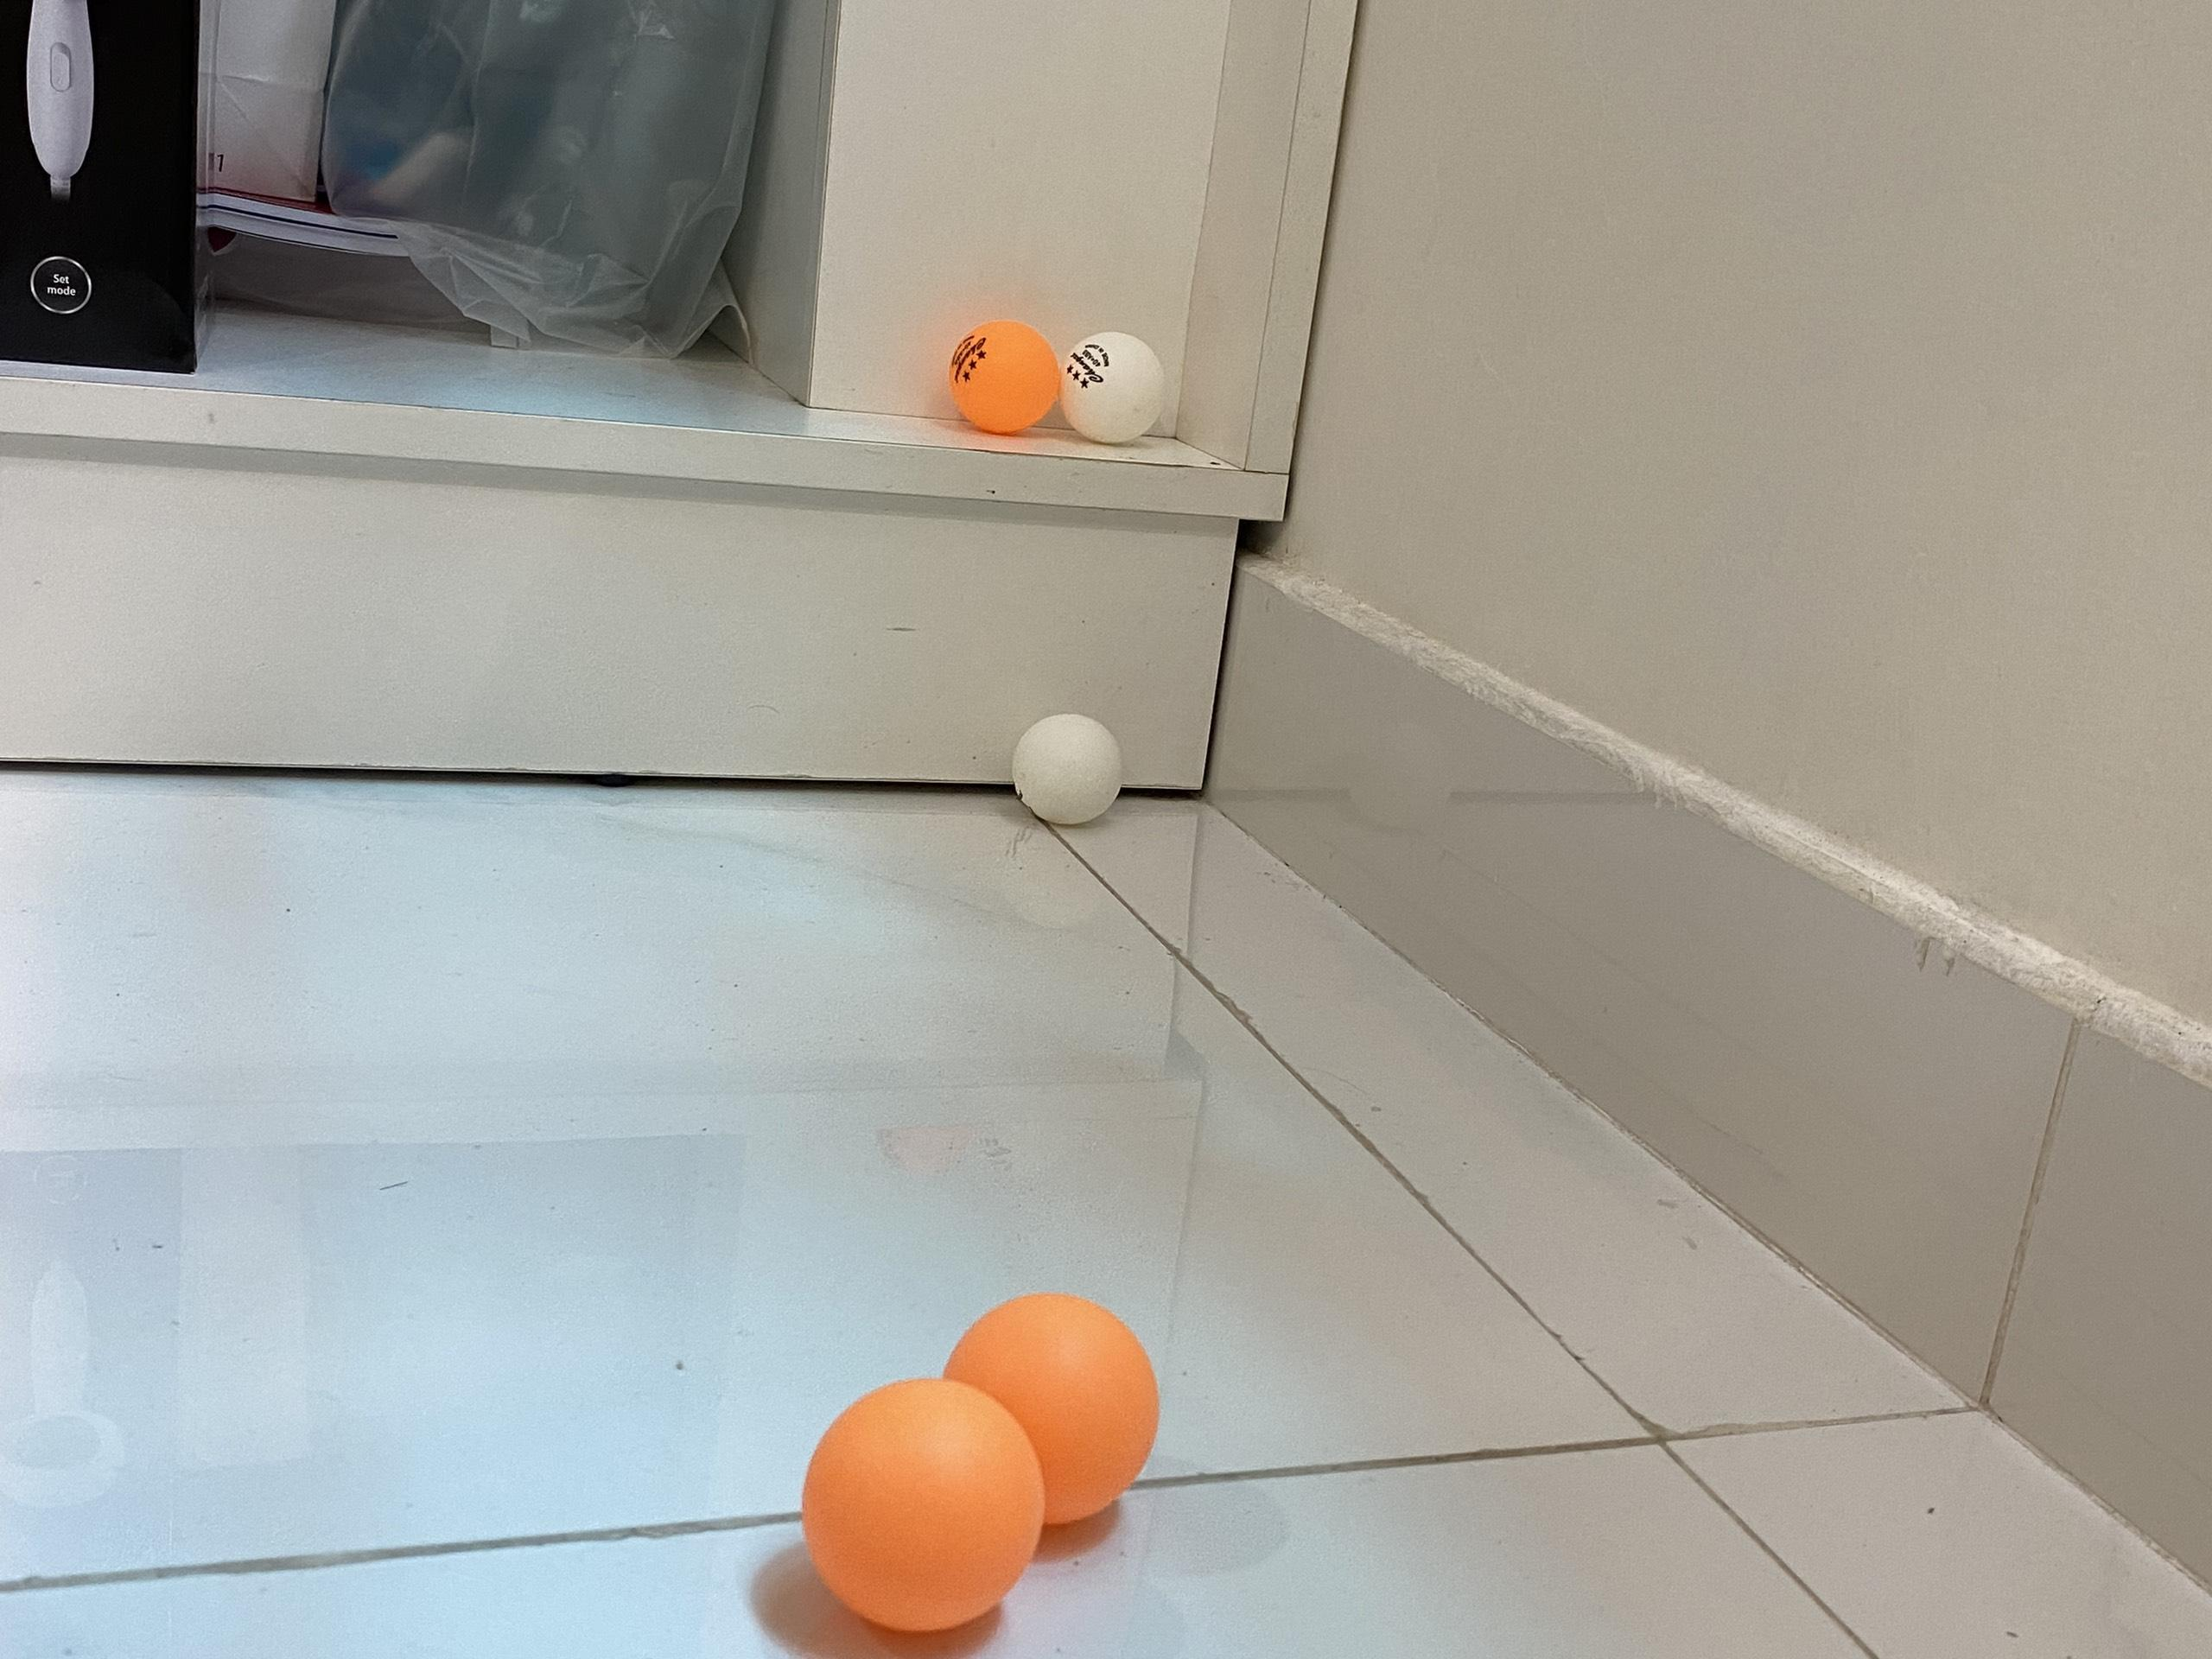oball: (808, 1377, 1045, 1626), (937, 1290, 1167, 1530), (948, 314, 1059, 432)
